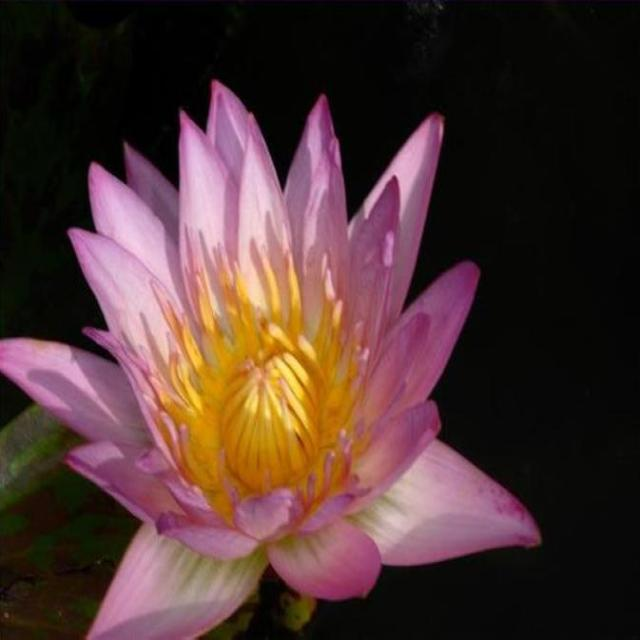rose: (19, 43, 565, 640)
